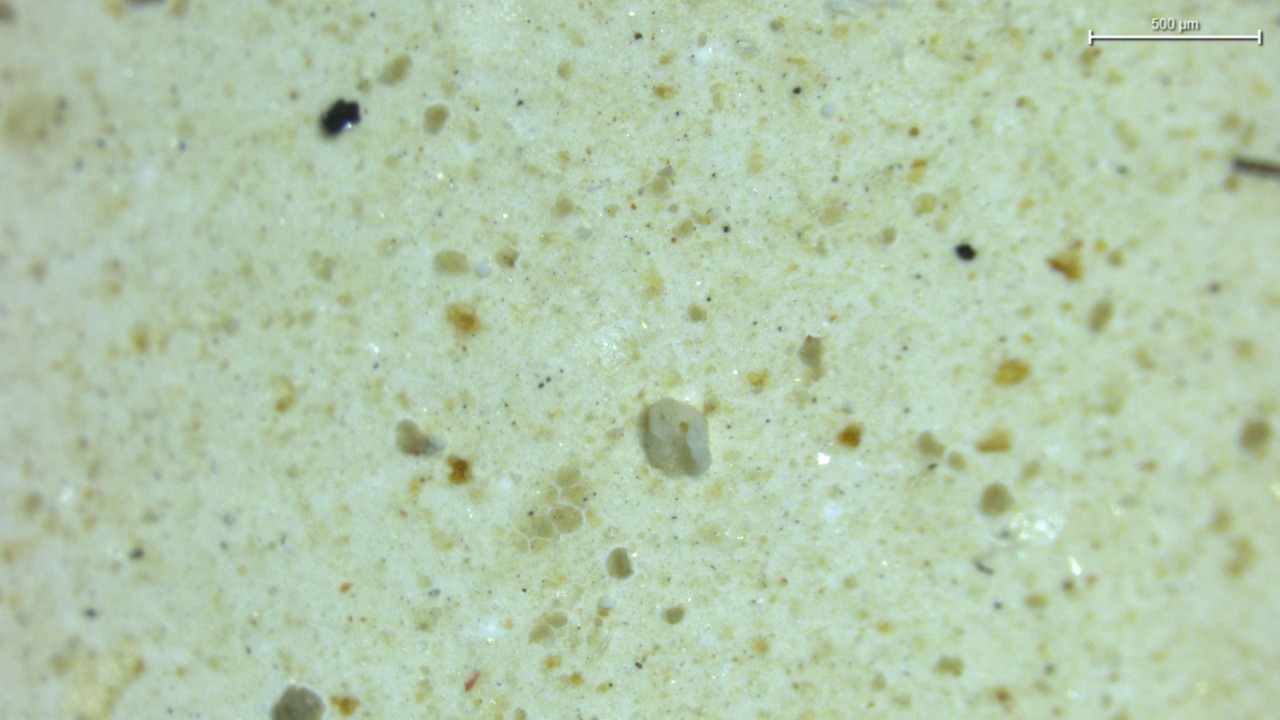microplastic_fragment: (644, 398, 711, 477)
